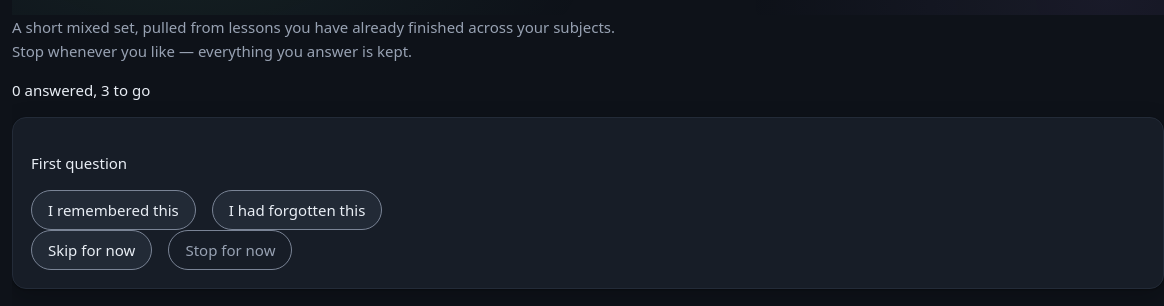
the practice run › marks an answer on the same tick and keeps the buttons live
This screenshot has width=1164, height=306.
Click the button with test id "practice-got-it". click: (113, 210)
box: top-left (31, 190), bottom-right (196, 230)
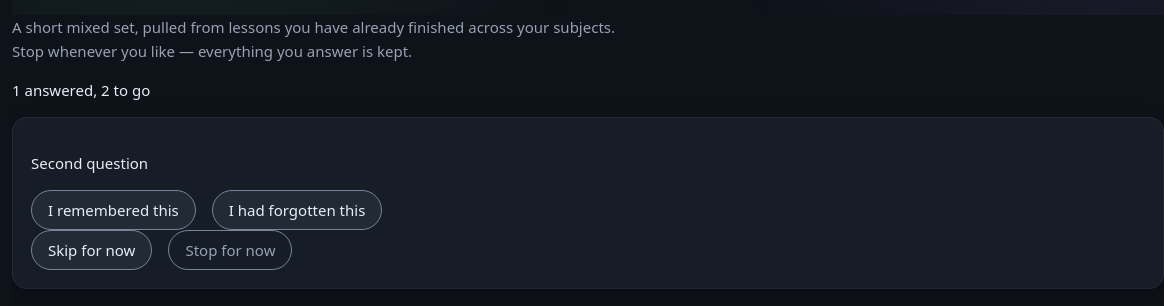
Expected: the element with test id "practice-question" shows "Second question", top-left (31, 153), bottom-right (148, 173)
Expected: the text with test id "practice-progress" reads "1 answered, 2 to go", top-left (12, 80), bottom-right (150, 100)
